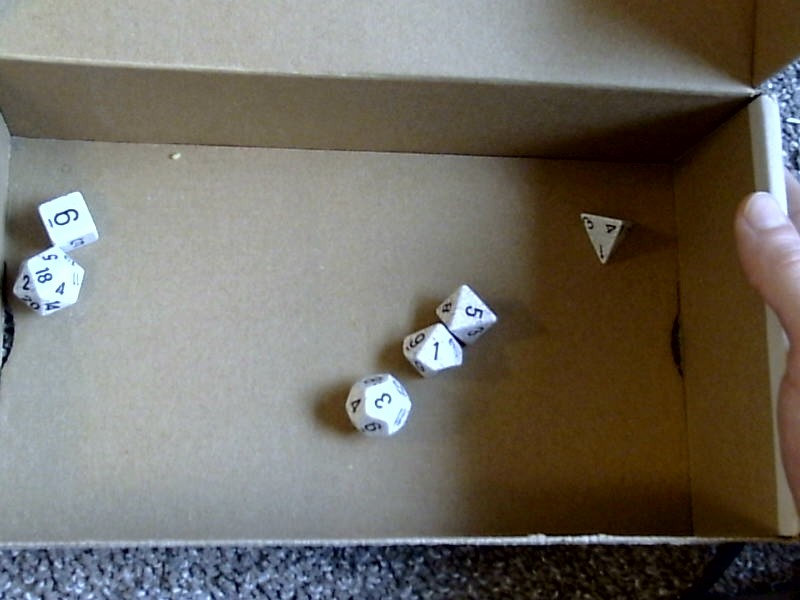d10 1: (394, 322, 469, 385)
d12 3: (330, 370, 414, 451)
d20 18: (11, 246, 101, 317)
d4 4: (576, 205, 640, 269)
d6 6: (32, 182, 125, 253)
d8 5: (436, 283, 503, 344)
